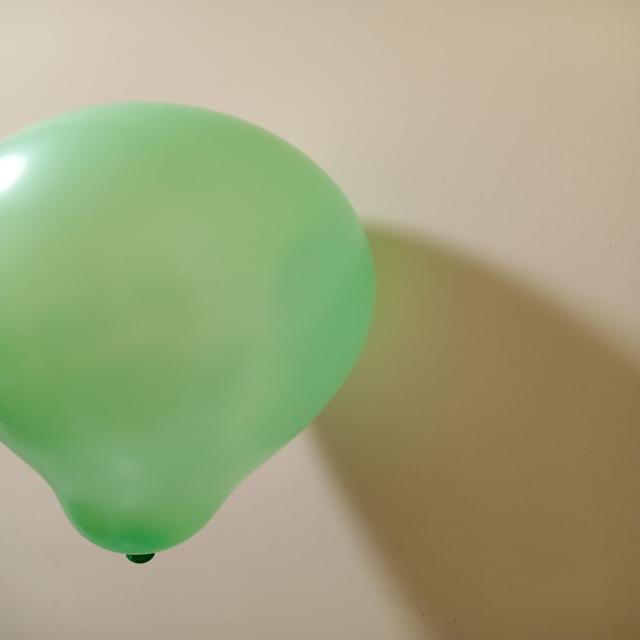balloon: (0, 102, 375, 563)
